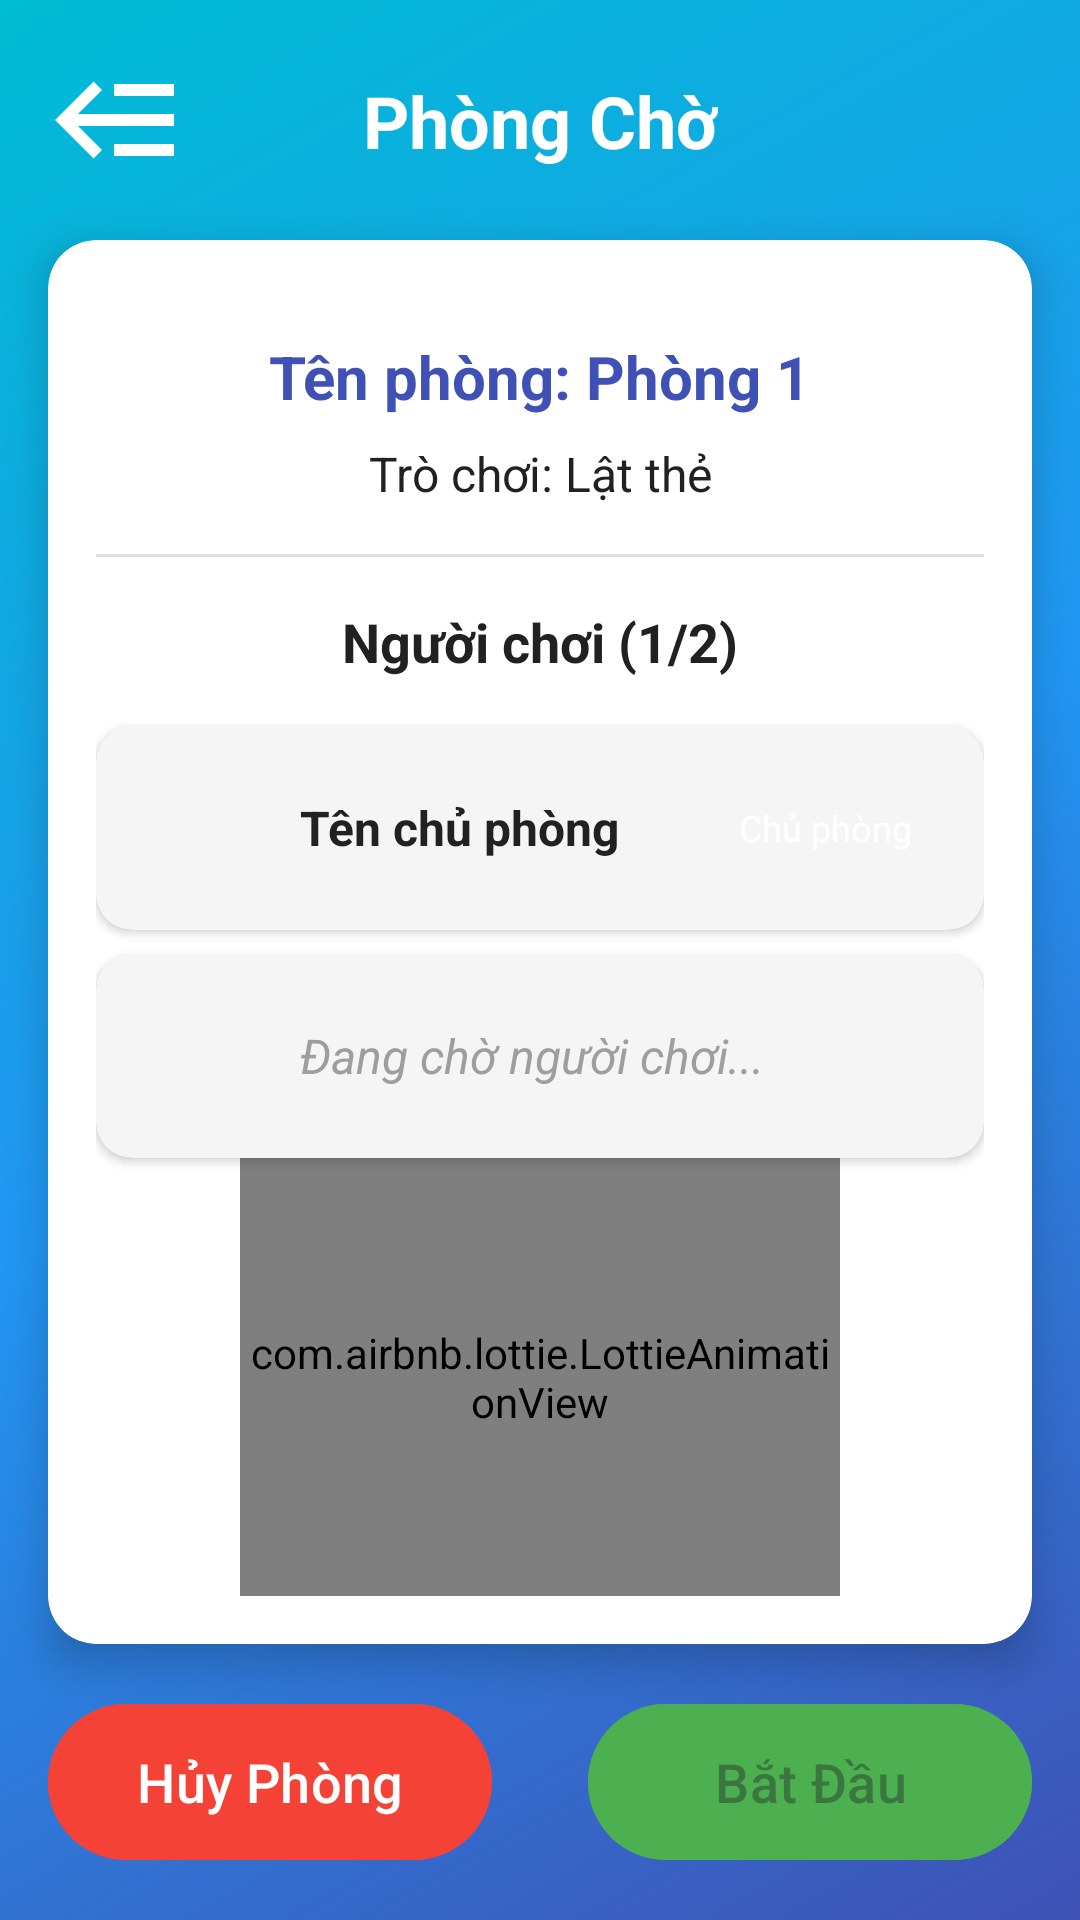

Point at icon controls on the screen. Image size 1080px x 1920px, points as (x=x, y=y).
arrow back: (x=114, y=120)
